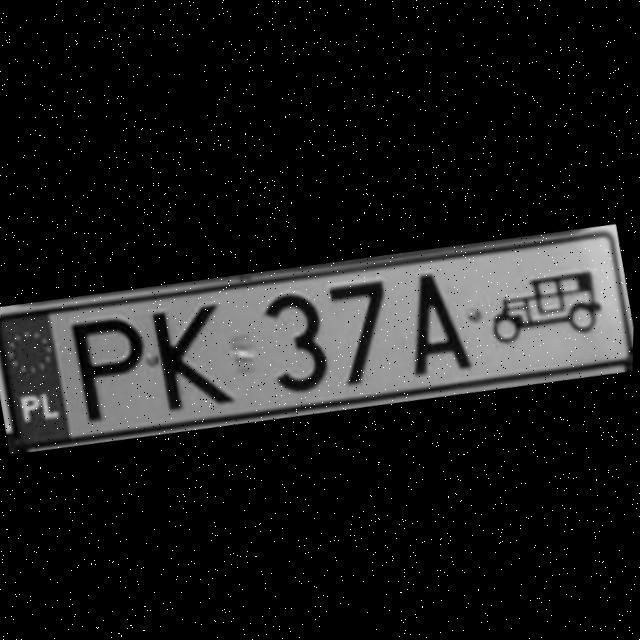license-plates: (0, 234, 633, 447)
